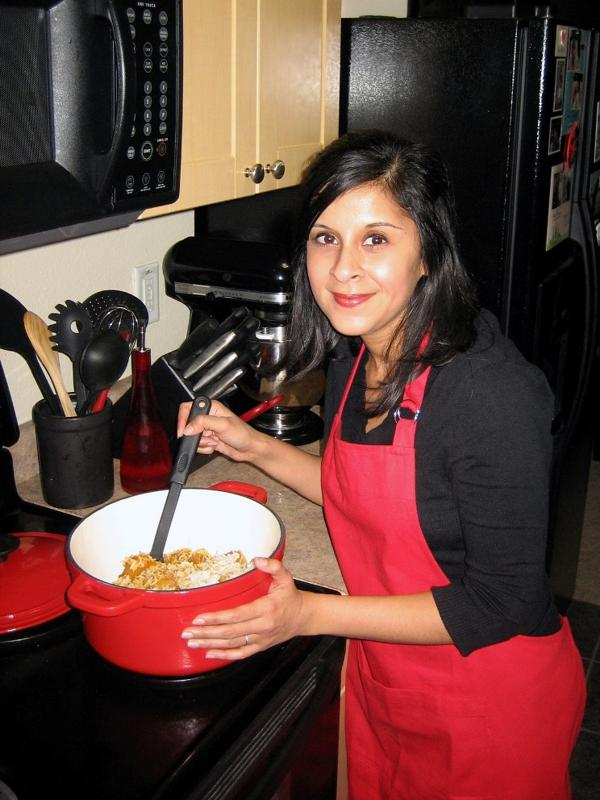person: (174, 147, 589, 799)
